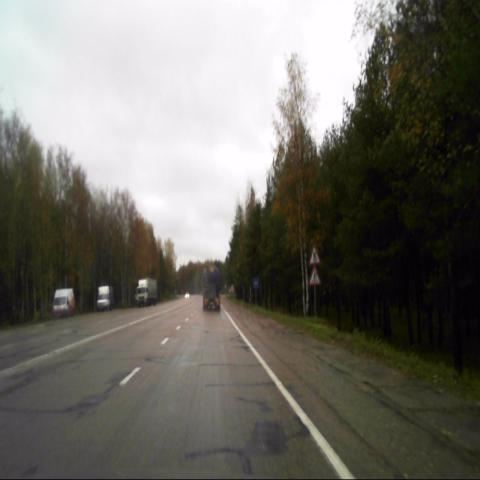1_20_2: (308, 244, 320, 264)
1_22: (309, 267, 321, 287)
